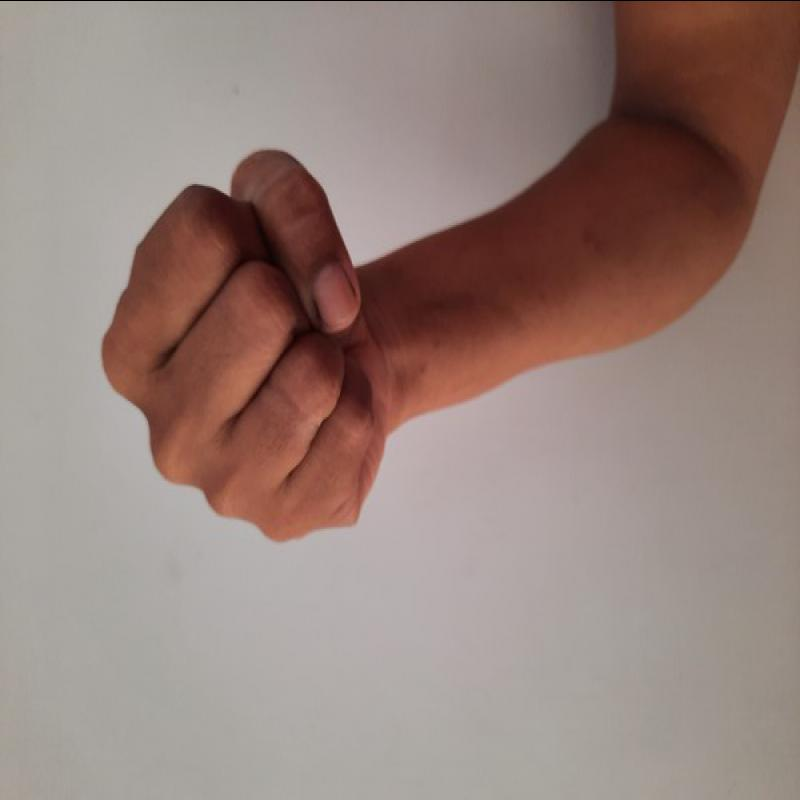Mushti: (92, 140, 399, 553)
